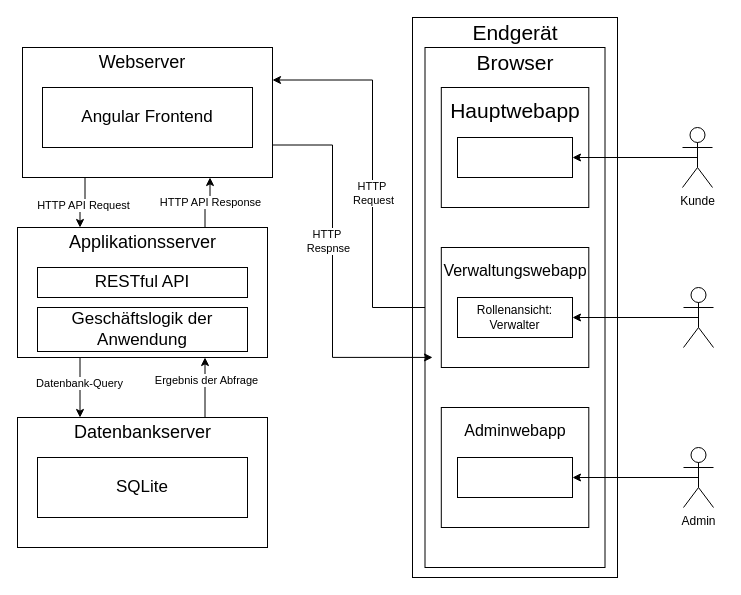
This 741x595 diagram has some shape labels left out. Each missing label, with the centre of its shape:
"Rollenansicht: Admin" belongs at [514,477].
"Rollenansicht: Kunde" belongs at [514,157].
"Verwalter" belongs at [698,317].
